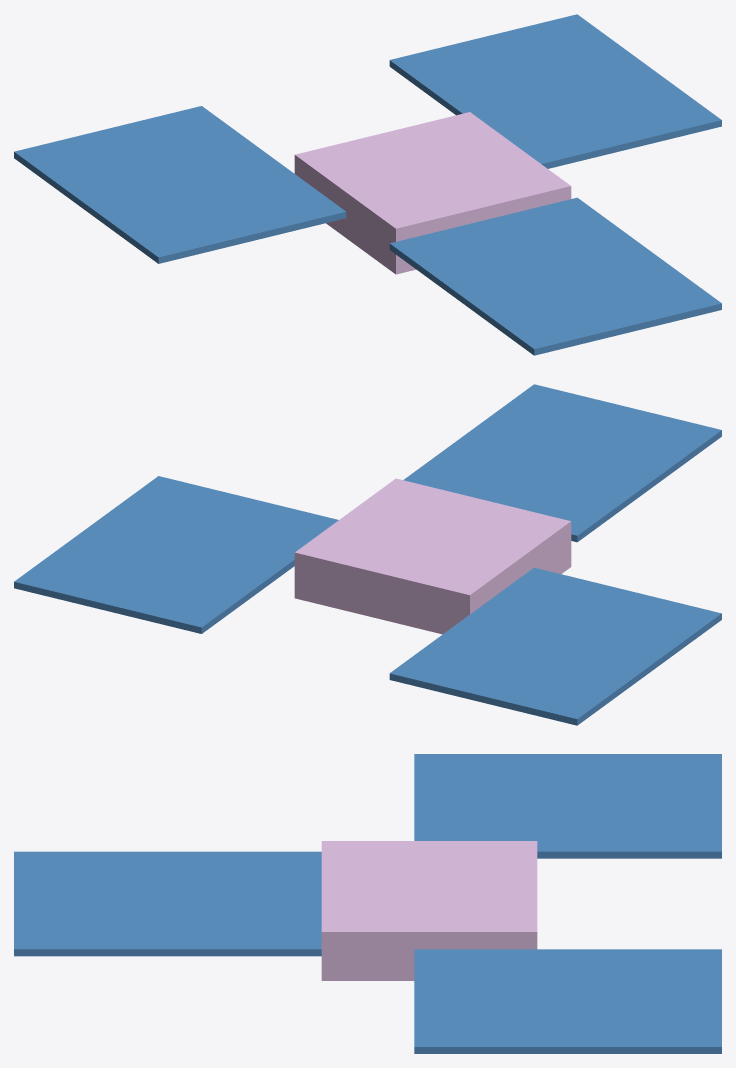
Rendered from iridium-triangular.glb.
3 views of the same model, one above another, from view 1: azimuth 30°, elevation 25°; view 2: azimuth 150°, elevation 25°; view 3: azimuth 270°, elevation 25° (orthographic). The views are drawn at different scales.
Visible parts, largest first — view 1: iridium-triangular; view 2: iridium-triangular; view 3: iridium-triangular.
Part boxes in pixels (x1,y1,x2,y2): iridium-triangular: (14, 14, 721, 355); iridium-triangular: (14, 384, 721, 725); iridium-triangular: (14, 754, 721, 1053).
Bounding box in the file's own units: 4.5 × 0.35 × 4.6.
